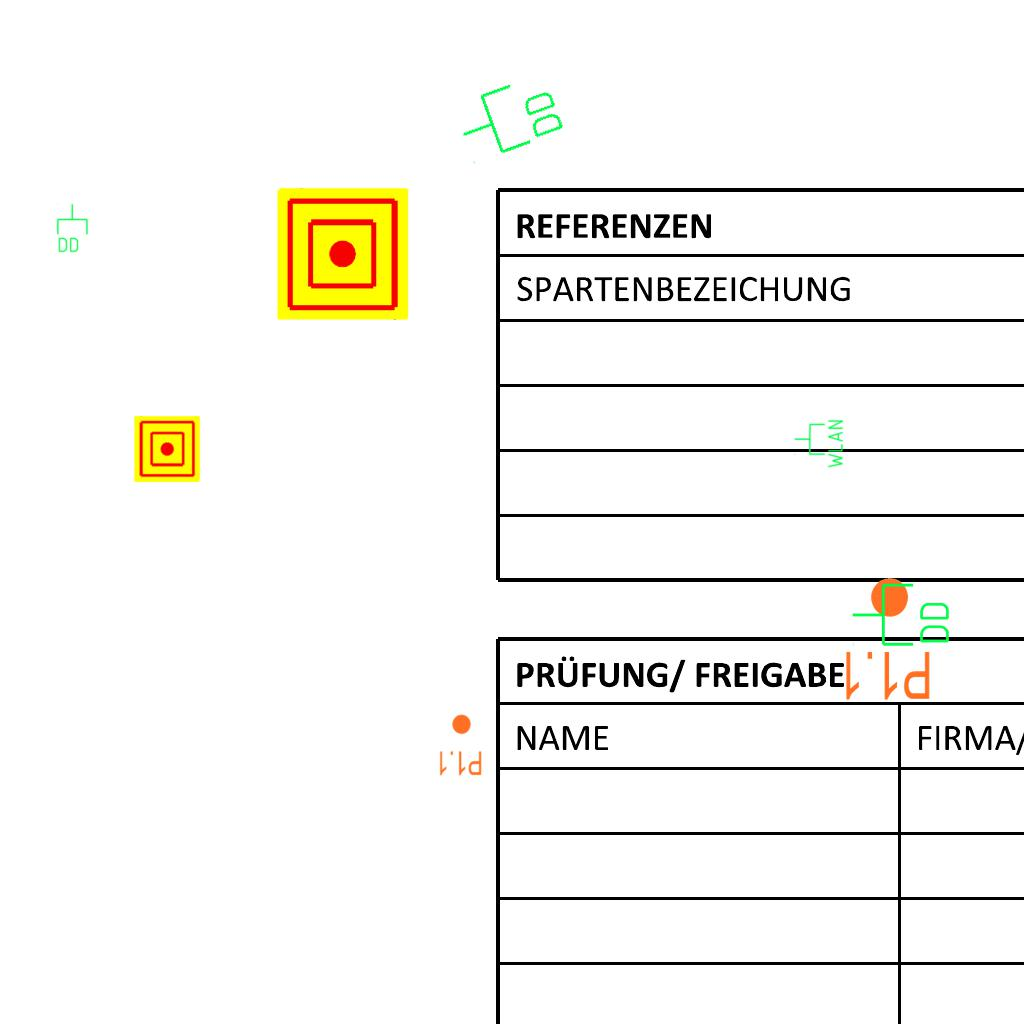Datenanschluss_zweifach: (449, 68, 570, 169), (850, 581, 953, 650), (55, 203, 89, 254)
Downlight_LED_Einbauleuchten_Flur: (840, 575, 933, 703), (437, 713, 483, 777)
NAM-Nichtautomatischer_Melder: (277, 188, 409, 320), (134, 416, 200, 482)
WLAN: (793, 418, 845, 470)
